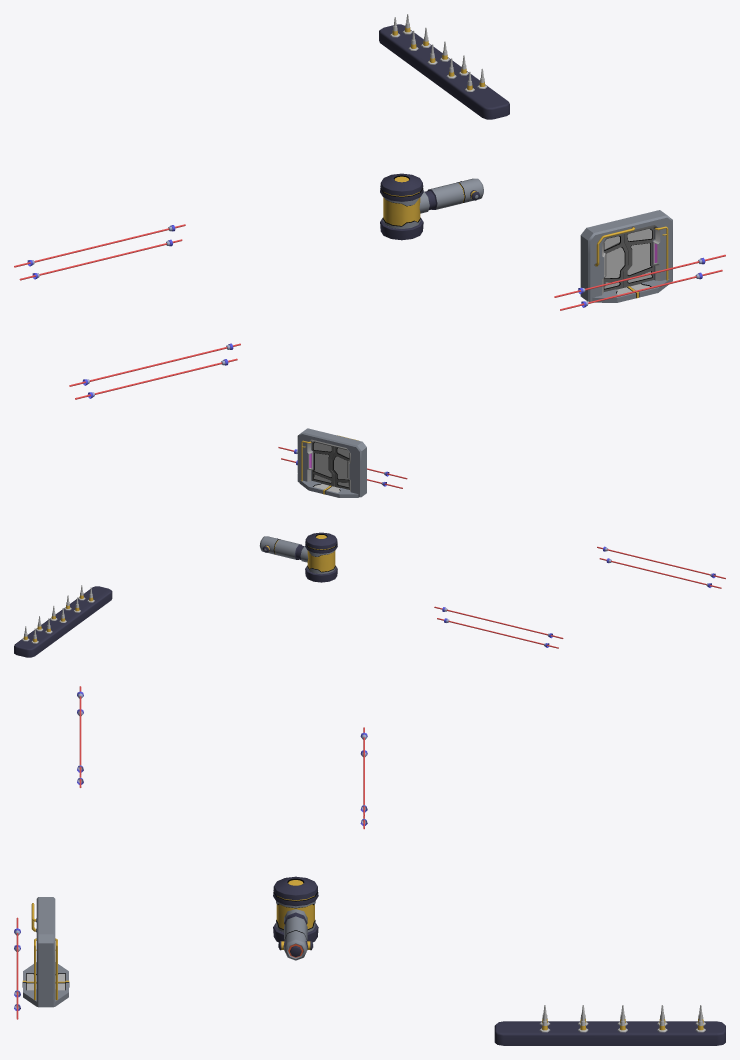
3 renders of one model, top to bottom at view 1: azimuth 30°, elevation 25°; view 2: azimuth 150°, elevation 25°; view 3: azimuth 270°, elevation 25°, orthographic. The views are drawn at different scales.
Parts seen in each view (by area): view 1: Base (×2), pCylinder13, Right, pCylinder14, Left, Base5; view 2: Base (×2), pCylinder13, Right, pCylinder14, Left, Base5; view 3: Base (×2), pCylinder13, pCylinder14, Base5.
Part boxes in pixels (left/top/right/bottom): Base (×2): left=379, top=24, right=672, bottom=301; pCylinder13: left=380, top=173, right=423, bottom=240; Right: left=623, top=227, right=654, bottom=287; pCylinder14: left=419, top=178, right=483, bottom=213; Left: left=603, top=234, right=628, bottom=291; Base5: left=592, top=279, right=670, bottom=302; Base (×2): left=14, top=428, right=366, bottom=657; pCylinder13: left=305, top=532, right=337, bottom=582; Right: left=311, top=441, right=334, bottom=486; pCylinder14: left=259, top=536, right=308, bottom=562; Left: left=331, top=446, right=349, bottom=489; Base5: left=299, top=480, right=358, bottom=497; Base (×2): left=36, top=897, right=725, bottom=1045; pCylinder13: left=273, top=876, right=318, bottom=942; pCylinder14: left=284, top=909, right=307, bottom=960; Base5: left=22, top=962, right=69, bottom=1006.
Bounding box in the file's own units: 412 × 46.16 × 379.
